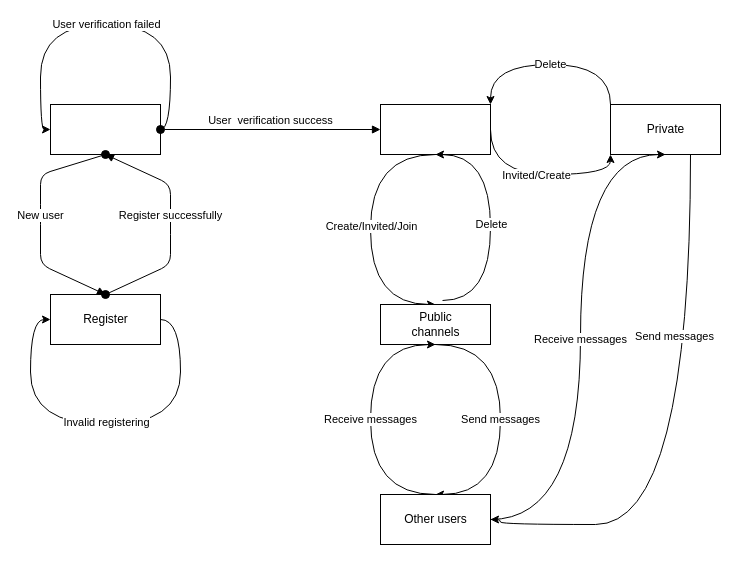
Some shapes in this 738 by 562 pixel diagram are drawn without their labels. Each missing label, with the centre of its shape:
Flockr main menu: pixel 435 129
Login: pixel 105 129
